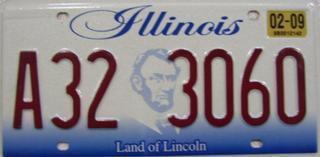placa de veiculo: (8, 2, 320, 147)
